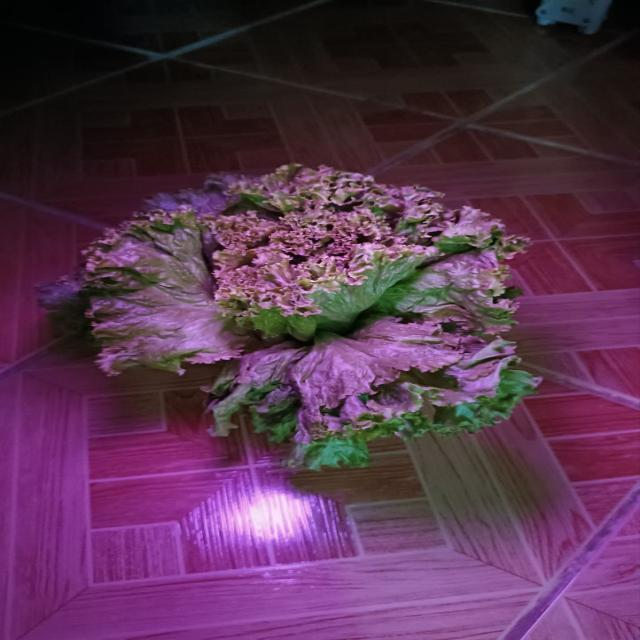Lettuce-Ready-to-Harvest: (62, 165, 539, 468)
